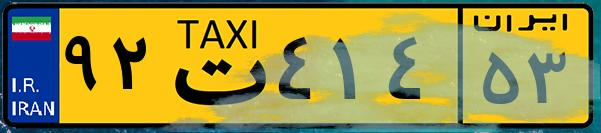1: (330, 28, 385, 110)
2: (110, 28, 158, 98)
3: (525, 38, 570, 115)
4: (270, 28, 330, 110), (385, 28, 445, 110)
5: (475, 38, 525, 113)
9: (57, 26, 110, 100)
ت: (158, 12, 270, 120)
